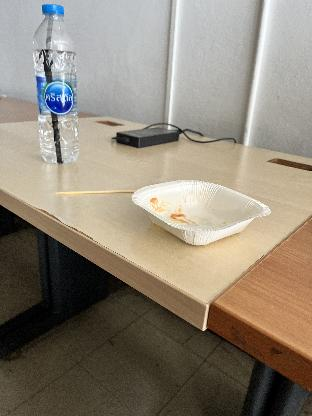Plastic Bottle: (30, 4, 78, 166)
Styrofoam: (131, 176, 270, 249)
